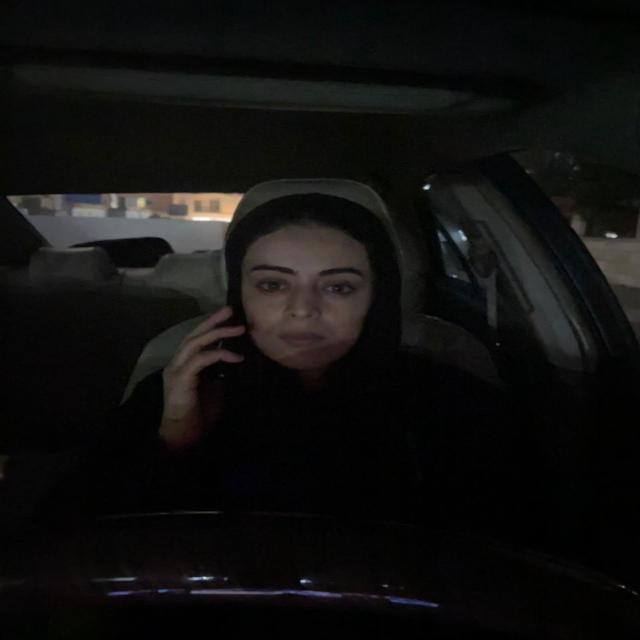mobile: (210, 286, 241, 382)
person: (240, 212, 390, 376)
